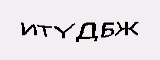Б: (102, 22, 113, 45)
И: (41, 15, 63, 41)
Т: (67, 18, 87, 42)
У: (86, 23, 103, 44)
Ч: (115, 23, 124, 42)
